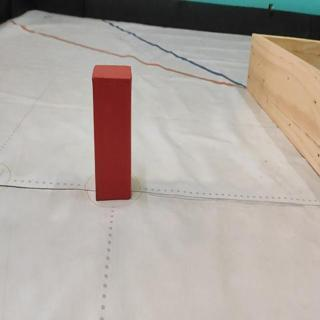redbox: (92, 63, 133, 202)
